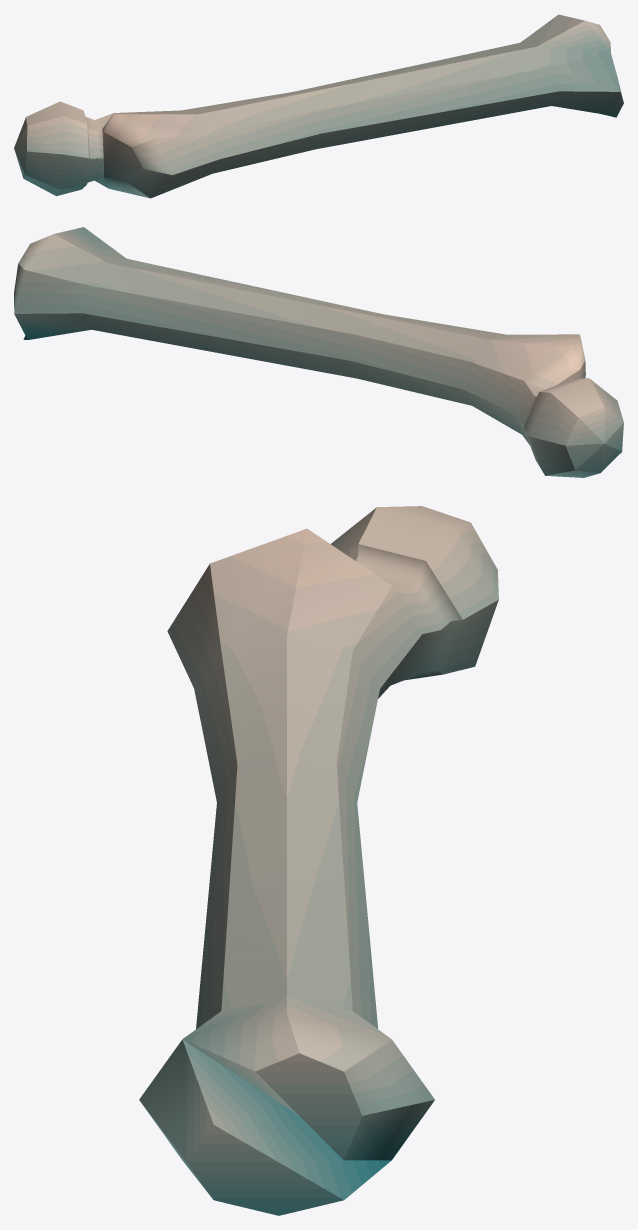
Rendered from Bone4.fbx.
3 renders of one model, top to bottom at view 1: azimuth 30°, elevation 25°; view 2: azimuth 150°, elevation 25°; view 3: azimuth 270°, elevation 25°, orthographic. The views are drawn at different scales.
Visible parts, largest first — view 1: Bone4; view 2: Bone4; view 3: Bone4.
Boxes of the visible parts, box(x1,y1,x2,y2) form: Bone4: box(14, 14, 623, 198); Bone4: box(14, 227, 623, 477); Bone4: box(139, 506, 498, 1215).
Size of the model in its own units: 3.75 by 0.7188 by 1.06.
